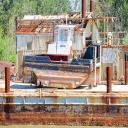tugboat: (20, 24, 104, 92)
